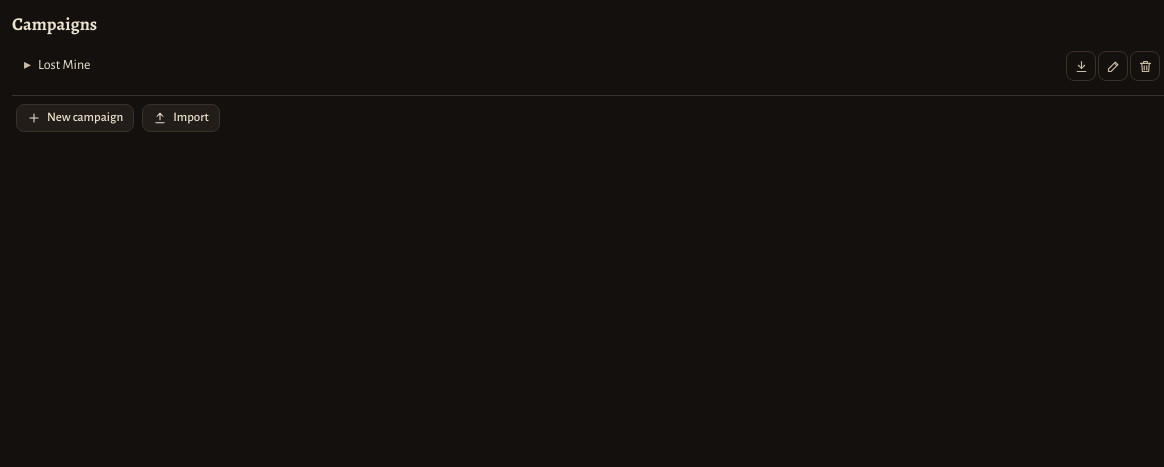
Test case: reordering (Q-089) › shows the server order and a message when another browser changed the list meanwhile
Click the button "Lost Mine". click: point(64, 65)
box: [16,52,1062,80]
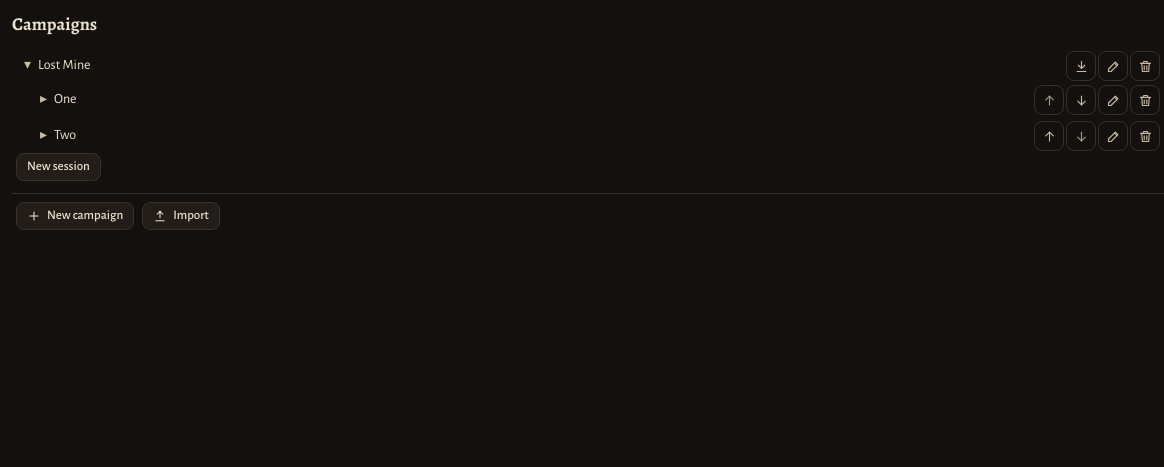
Click the button "One". click: point(65, 99)
box: [32,86,1030,114]
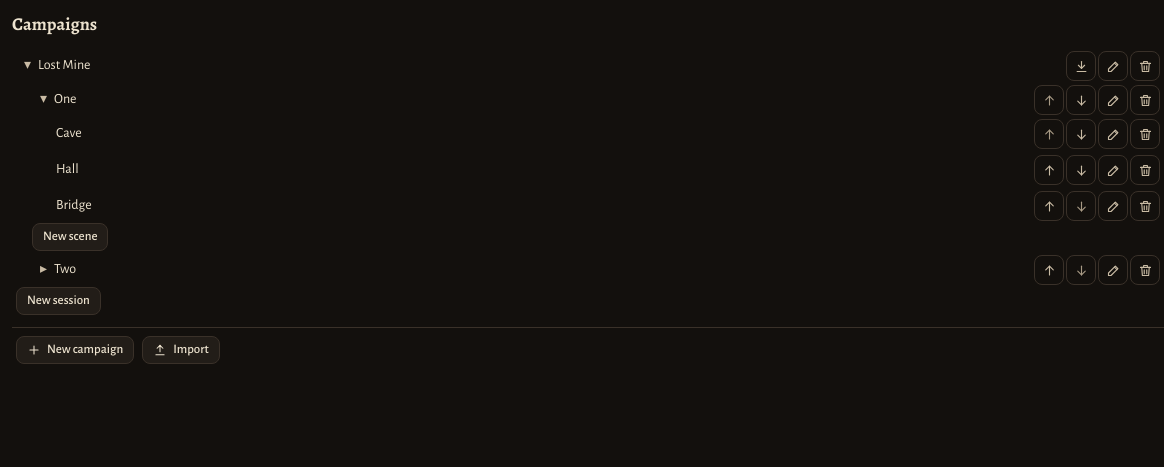
Click the button named "Move Cave down". click: point(1081, 134)
box: [1066,119,1096,149]
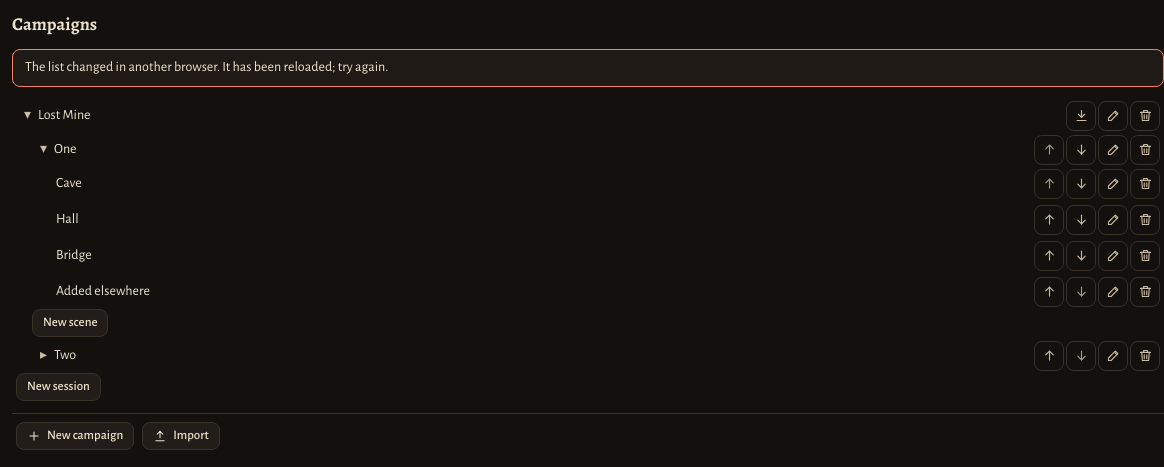
expect the message "The list changed in another browser. It has been reloaded; try again." is shown: met, box [12,49,1163,87]
